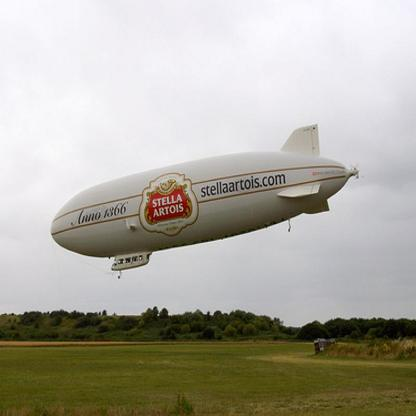Airship: (41, 119, 363, 287)
